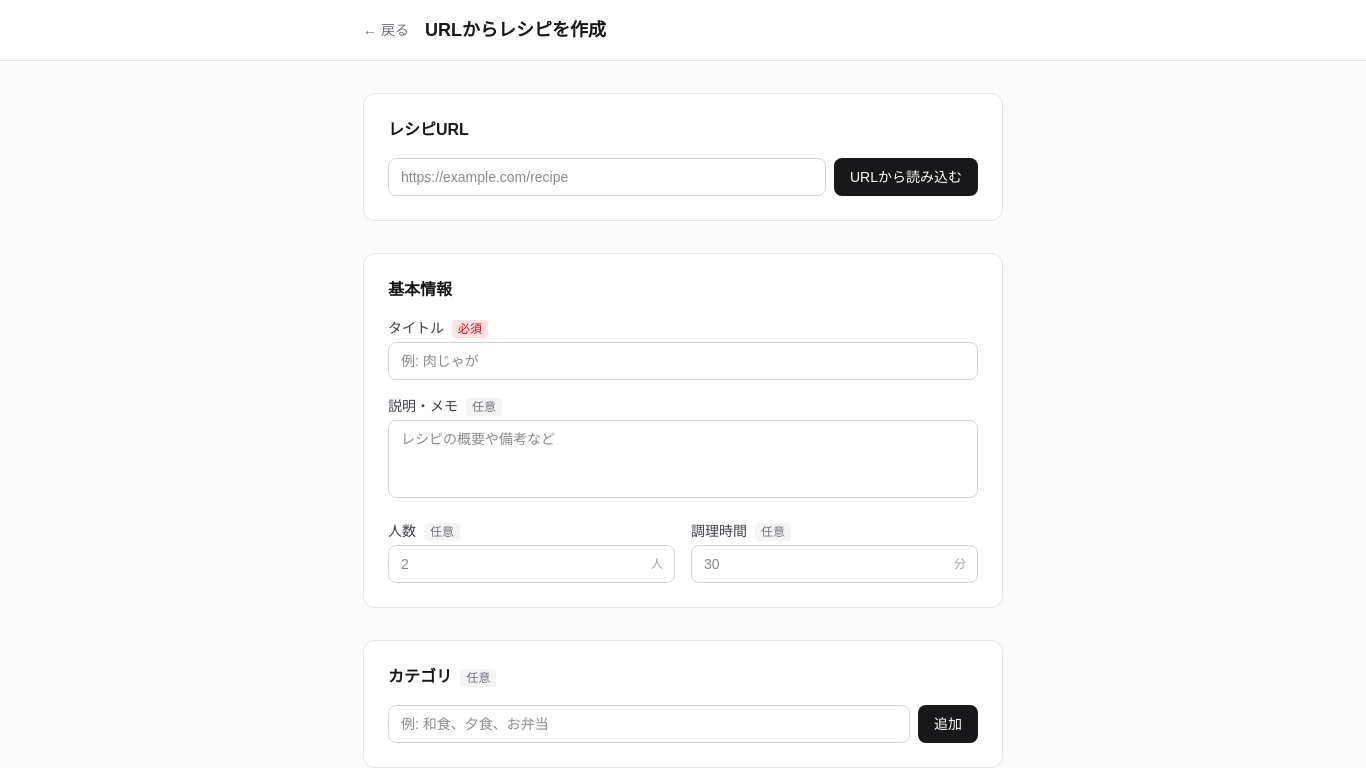
Test: FromUrlPage › 不正 URL の場合: バリデーションエラーが表示される
Type "not-a-url" into the field with placeholder "https://example.com/recipe".
click(607, 177); type("not-a-url")  # box top-left (388, 158), bottom-right (826, 196)
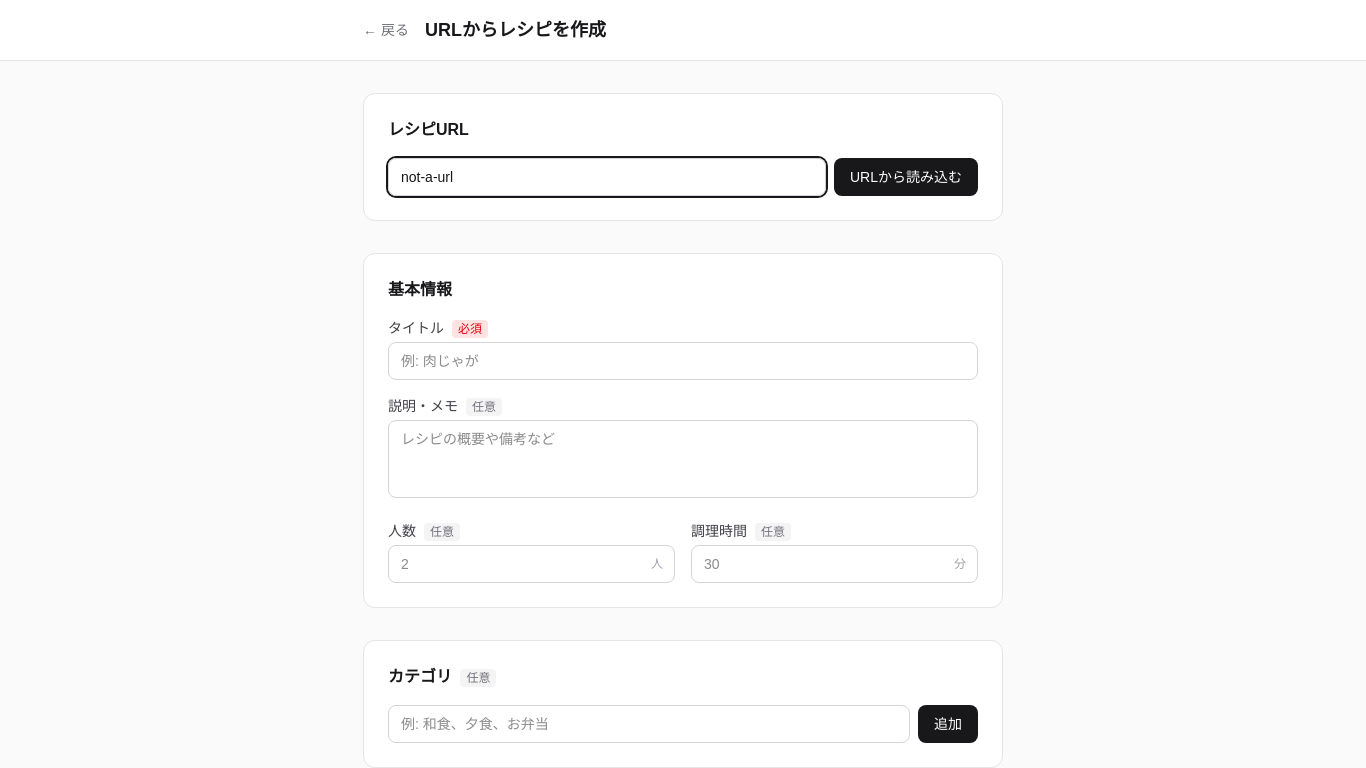
Click the button "URLから読み込む".
click(906, 177)  # box top-left (834, 158), bottom-right (978, 196)
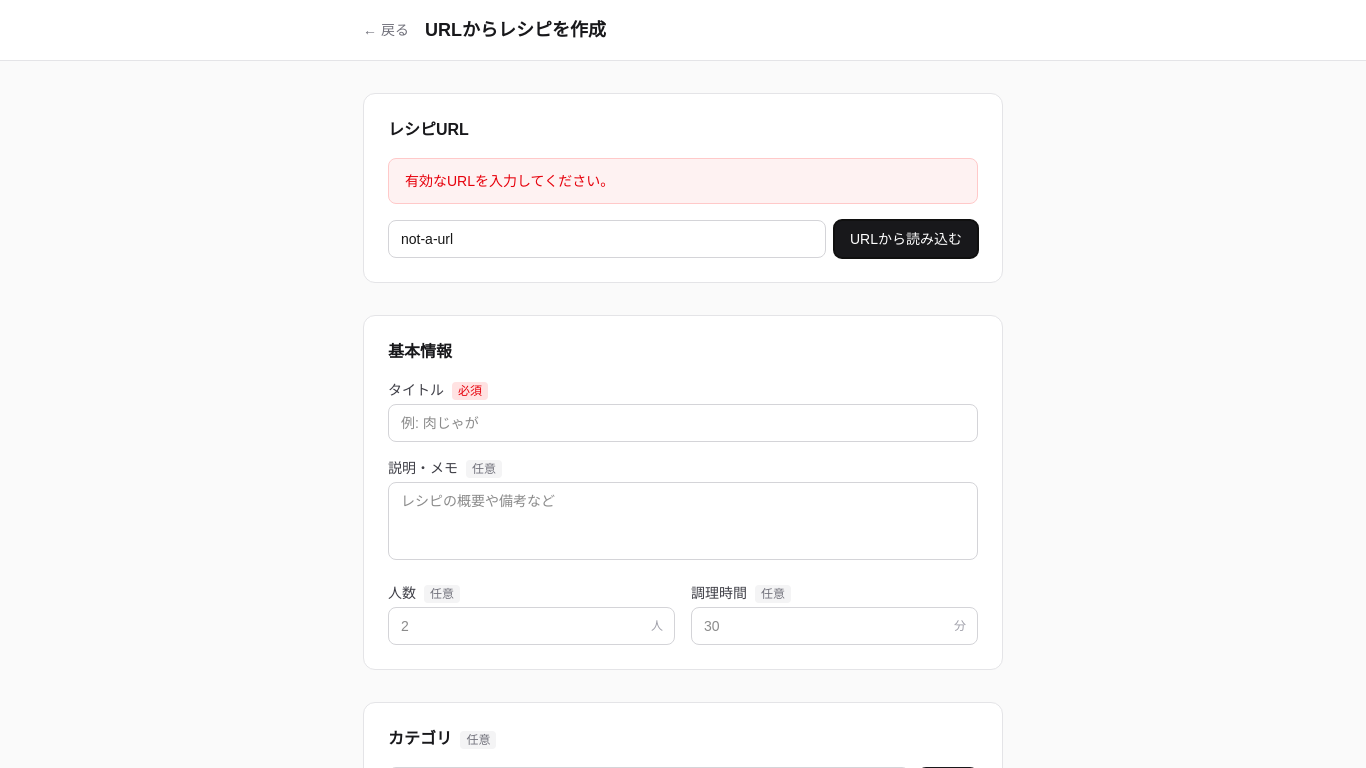
expect the text "有効なURLを入力してください。" is shown: met, box top-left (388, 158), bottom-right (978, 204)
